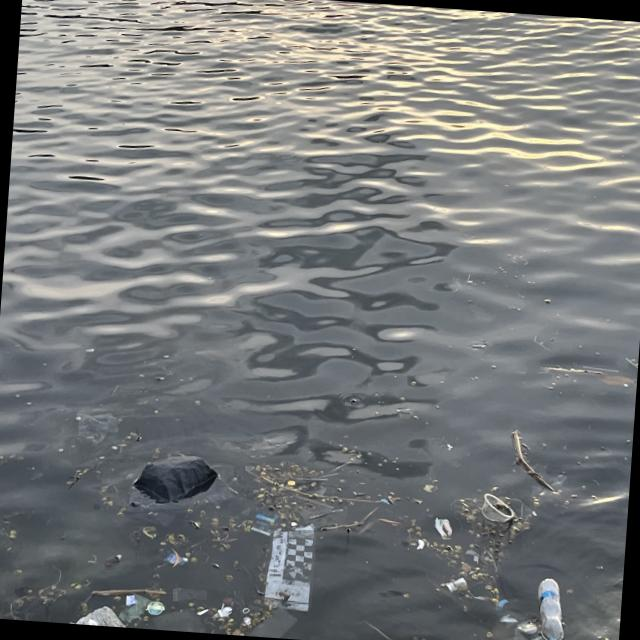plastic: (534, 578, 568, 640)
plastic bottle: (124, 451, 235, 532), (263, 522, 316, 612), (286, 492, 350, 532), (75, 408, 122, 449), (248, 607, 297, 639), (74, 604, 126, 628), (120, 591, 152, 623), (481, 494, 516, 522), (170, 585, 208, 606), (251, 508, 279, 534), (511, 621, 543, 640), (432, 518, 452, 540), (445, 577, 468, 594), (163, 551, 188, 565), (213, 602, 232, 620), (146, 600, 166, 616), (500, 614, 518, 624), (497, 598, 509, 612), (125, 595, 138, 607), (196, 607, 208, 616)
